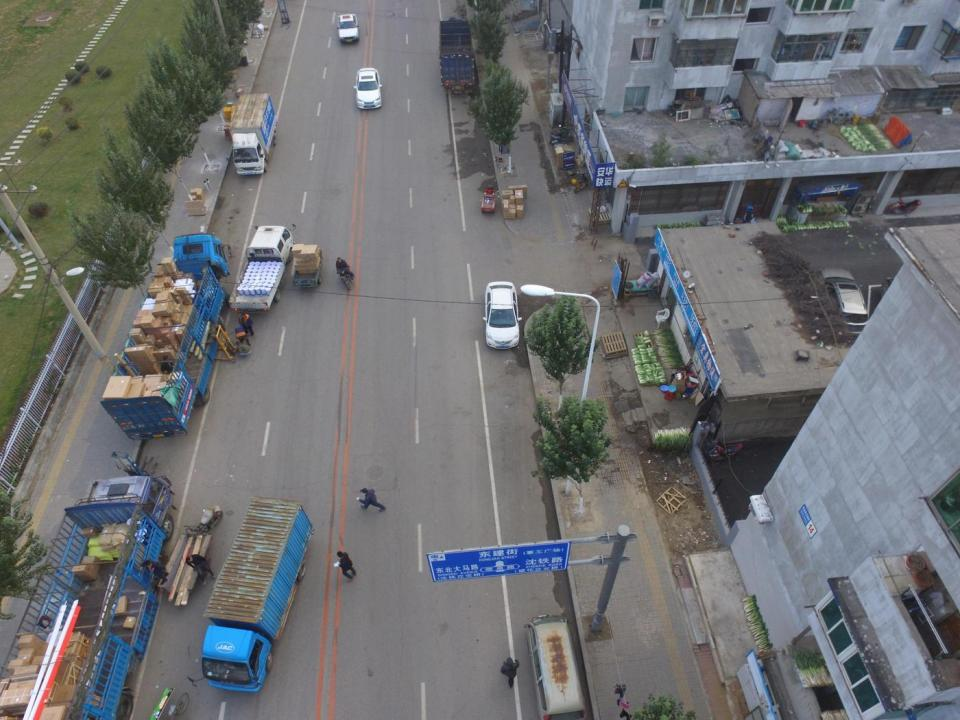car: (816, 268, 867, 338), (482, 281, 523, 351), (353, 67, 383, 109), (337, 13, 359, 44)
truck: (1, 475, 174, 720), (100, 233, 231, 440), (187, 496, 314, 692), (229, 224, 296, 312), (226, 92, 278, 176), (438, 16, 475, 94)
van: (524, 615, 586, 720)
